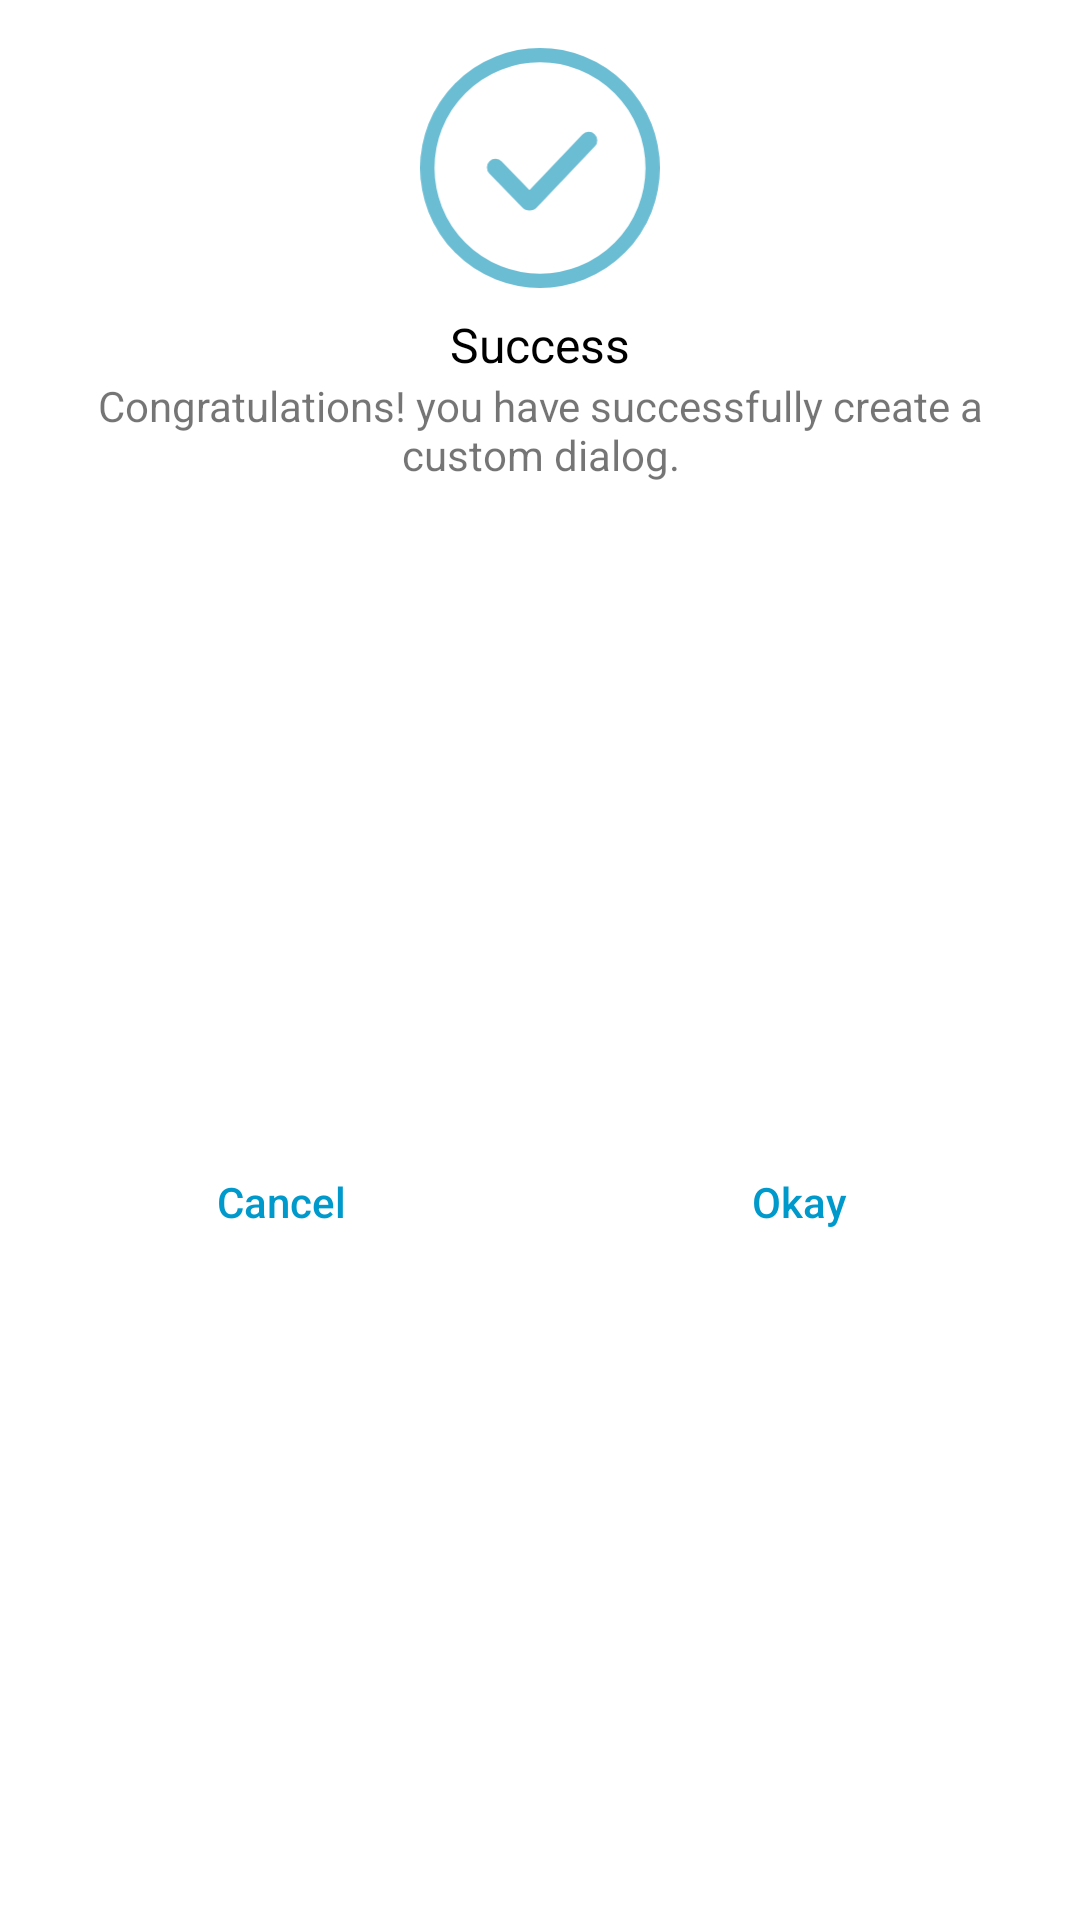

Named icons in this screenshot (1080px x 1920px) and their bounding boxes, (x1, y1, x2, y2):
done: (420, 48, 660, 288)
